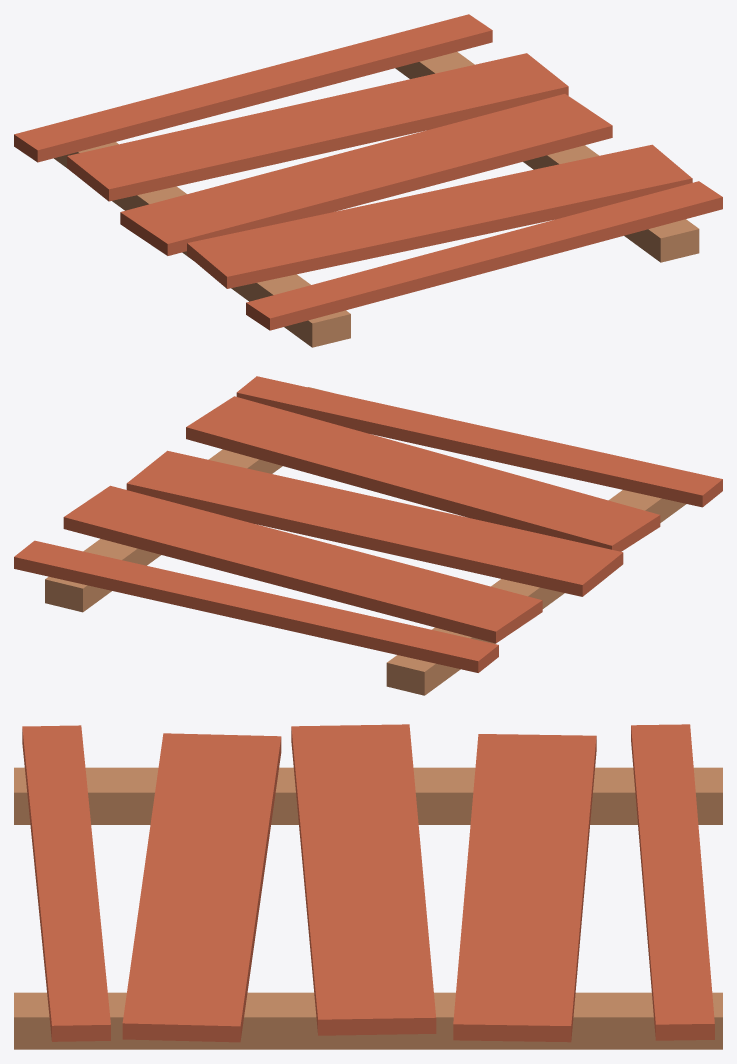
The model's file is wood tile.fbx.
3 renders of one model, top to bottom at view 1: azimuth 30°, elevation 25°; view 2: azimuth 150°, elevation 25°; view 3: azimuth 270°, elevation 25°, orthographic. The views are drawn at different scales.
Parts seen in each view (by area): view 1: platform_woodCrooked; view 2: platform_woodCrooked; view 3: platform_woodCrooked.
Part boxes in pixels (bbox=[...]): platform_woodCrooked: bbox=[14, 14, 722, 347]; platform_woodCrooked: bbox=[14, 376, 722, 695]; platform_woodCrooked: bbox=[14, 724, 722, 1049].
Bounding box in the file's own units: 10.08 × 0.75 × 10.
